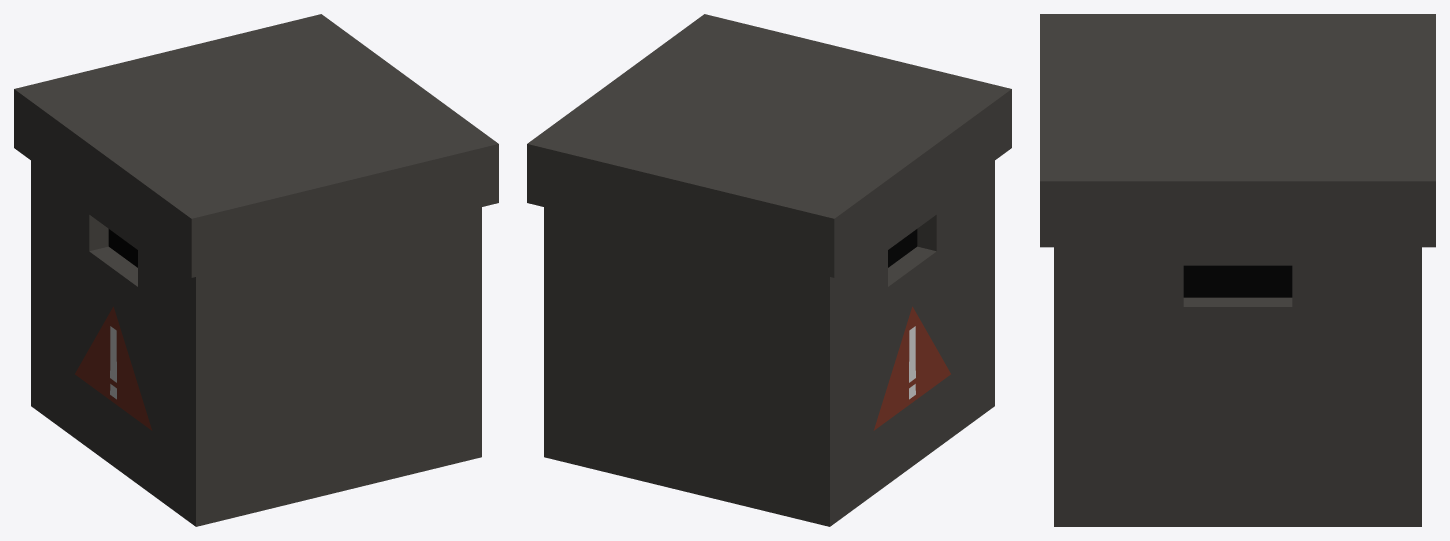
The model's file is carton.fbx.
3 renders of one model, left to right at view 1: azimuth 30°, elevation 25°; view 2: azimuth 150°, elevation 25°; view 3: azimuth 270°, elevation 25°, orthographic. The views are drawn at different scales.
Parts seen in each view (by area): view 1: carton; view 2: carton; view 3: carton.
Boxes of the visible parts, box(x1,y1,x2,y2) form: carton: box(14, 14, 498, 526); carton: box(527, 14, 1011, 526); carton: box(1040, 14, 1435, 526).
Size of the model in its own units: 1.1 by 1.1 by 1.08.
